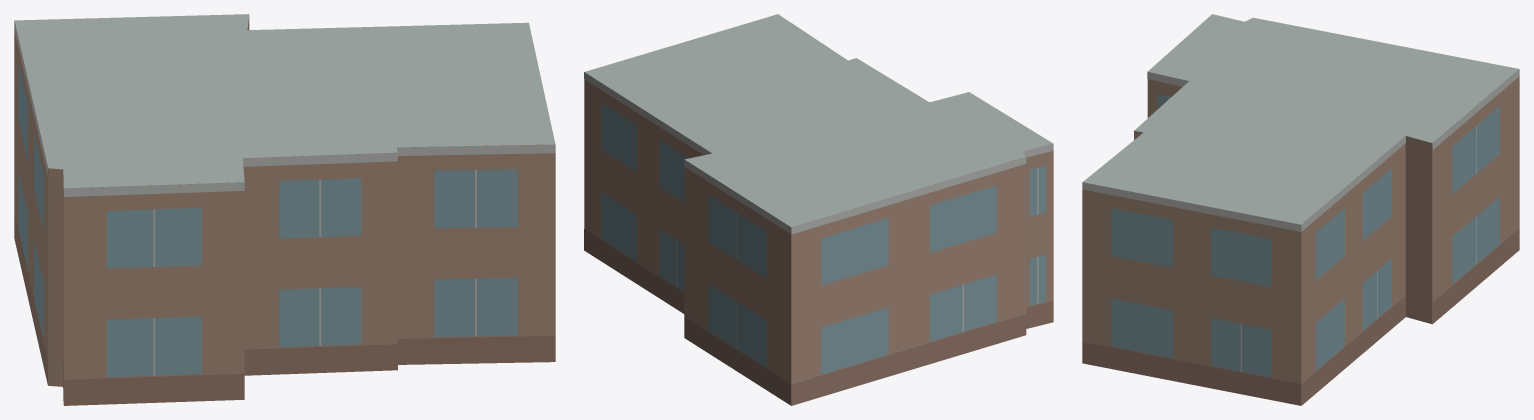
The model's file is survey-upis-32500079.glb.
The picture shows the model from 3 angles, left to right: view 1: azimuth 30°, elevation 25°; view 2: azimuth 150°, elevation 25°; view 3: azimuth 270°, elevation 25°; orthographic projection. The views are drawn at different scales.
Parts seen in each view (by area): view 1: survey-upis-32500079.tmp; view 2: survey-upis-32500079.tmp; view 3: survey-upis-32500079.tmp.
Boxes of the visible parts, left/top/right/bottom form: survey-upis-32500079.tmp: left=14, top=14, right=555, bottom=405; survey-upis-32500079.tmp: left=584, top=14, right=1053, bottom=405; survey-upis-32500079.tmp: left=1082, top=14, right=1519, bottom=405.
Size of the model in its own units: 15.23 by 6.1 by 13.35.
